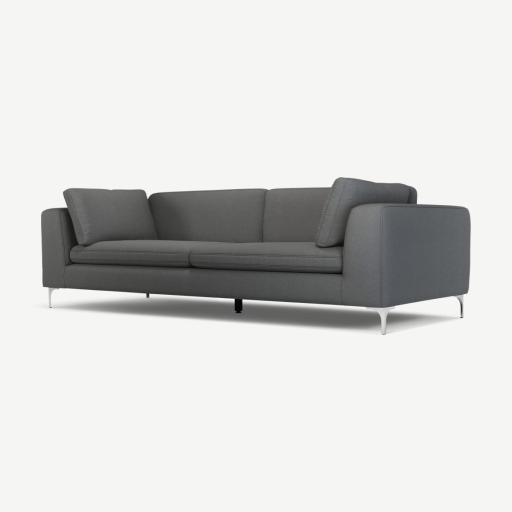back_cushion: (64, 178, 410, 246)
base: (54, 264, 342, 305)
left_arm: (341, 204, 470, 306)
legs: (380, 307, 393, 334), (48, 287, 59, 308), (234, 299, 242, 314), (458, 297, 463, 317), (146, 294, 149, 298)
right_arm: (42, 208, 76, 288)
seat_cushion: (71, 240, 343, 274)
two-seater: (0, 0, 511, 512)
